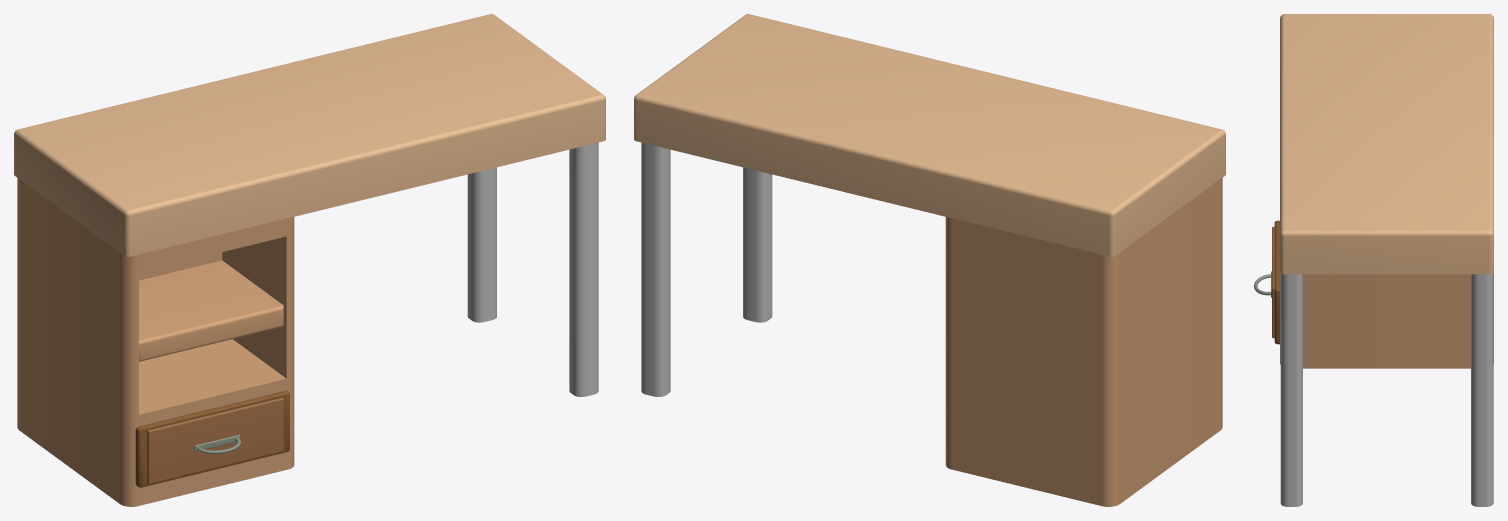
Rendered from Table.fbx.
3 views of the same model, side by side, from view 1: azimuth 30°, elevation 25°; view 2: azimuth 150°, elevation 25°; view 3: azimuth 270°, elevation 25° (orthographic). The views are drawn at different scales.
Visible parts, largest first — view 1: table; view 2: table; view 3: table.
Part boxes in pixels (x1,y1,x2,y2): table: (14, 14, 605, 506); table: (634, 14, 1225, 506); table: (1254, 14, 1493, 506).
Bounding box in the file's own units: 172 × 101 × 79.47.
1 material, 1 textured.
